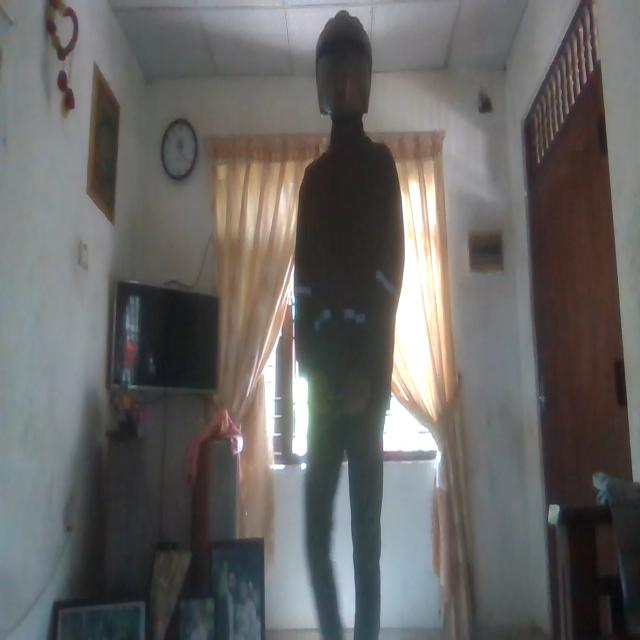Helmet_Wearer: (310, 3, 378, 136)
Jacket_Wearer: (290, 136, 406, 436)
Person: (290, 13, 405, 640)
